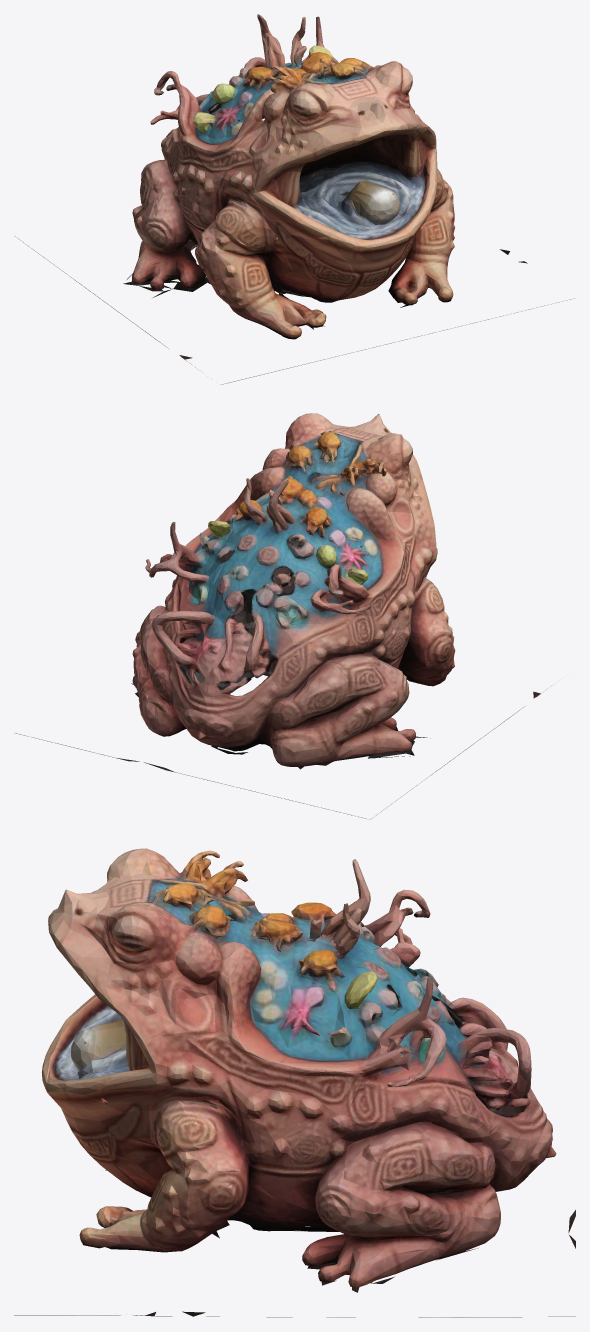
The model's file is mawdeep__tidepoolToad.glb.
3 views of the same model, one above another, from view 1: azimuth 30°, elevation 25°; view 2: azimuth 150°, elevation 25°; view 3: azimuth 270°, elevation 25° (orthographic). The views are drawn at different scales.
Visible parts, largest first — view 1: world; view 2: world; view 3: world.
Part boxes in pixels (<box>): world: <box>15,14,574,384</box>; world: <box>15,413,546,819</box>; world: <box>14,848,575,1317</box>.
Size of the model in its own units: 1 by 0.6493 by 1.
1 material, 1 textured.
